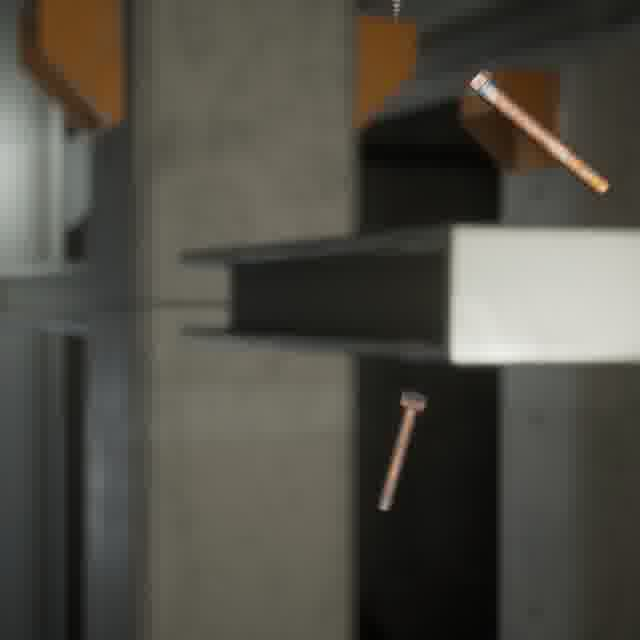bolt: (460, 64, 614, 200), (373, 387, 431, 515)
